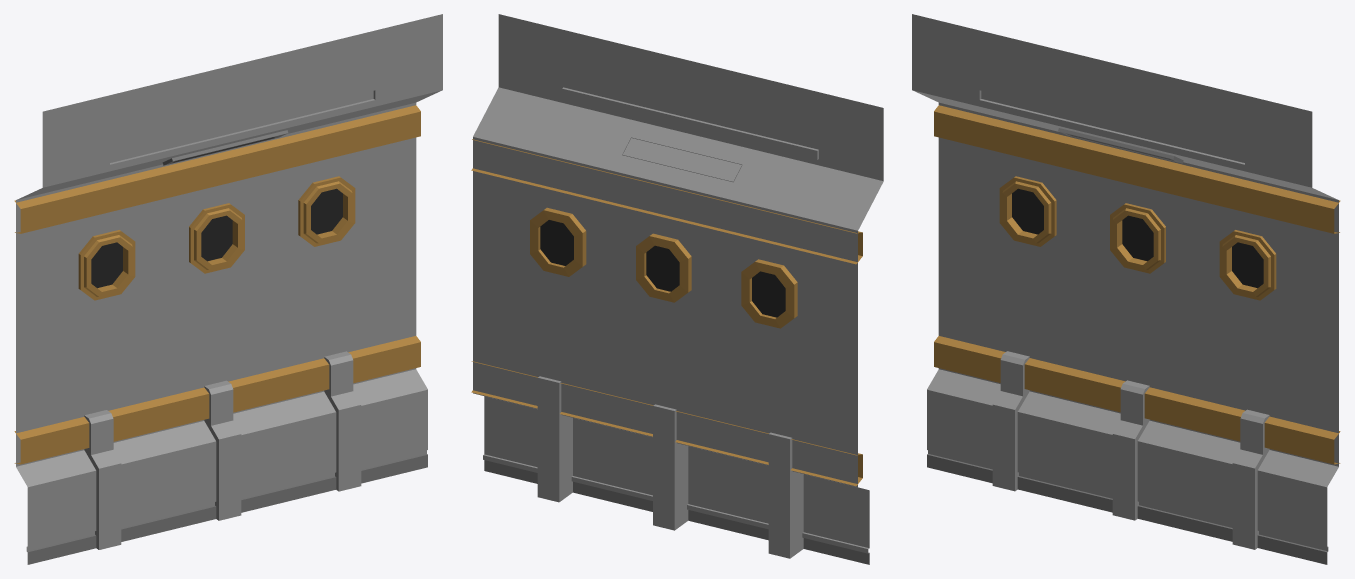
Rendered from smallwindows-wall-sideb-9b0a8bad7e.glb.
The picture shows the model from 3 angles, left to right: view 1: azimuth 30°, elevation 25°; view 2: azimuth 150°, elevation 25°; view 3: azimuth 330°, elevation 25°; orthographic projection. The views are drawn at different scales.
Visible parts, largest first — view 1: SmallWindows_Wall_SideB.obj; view 2: SmallWindows_Wall_SideB.obj; view 3: SmallWindows_Wall_SideB.obj.
Boxes of the visible parts, x1=… form: SmallWindows_Wall_SideB.obj: x1=14, y1=14, x2=442, y2=564; SmallWindows_Wall_SideB.obj: x1=471, y1=14, x2=883, y2=564; SmallWindows_Wall_SideB.obj: x1=912, y1=14, x2=1340, y2=564.
Bounding box in the file's own units: 4 × 4.43 × 0.5261.
